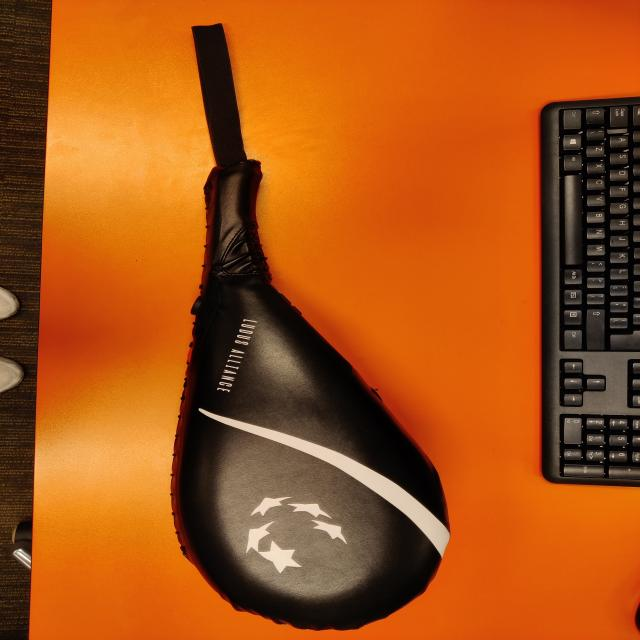paddle: (168, 160, 454, 634)
